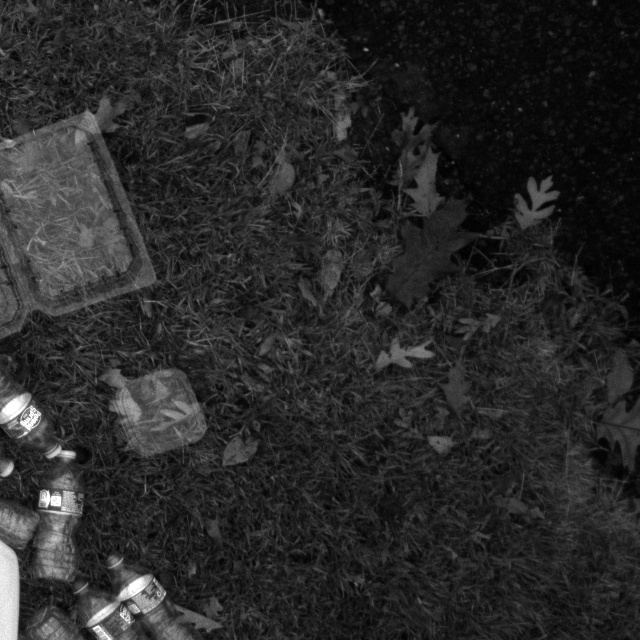bottle: (104, 553, 210, 640), (25, 442, 84, 585), (0, 346, 64, 461), (69, 579, 177, 640)
container: (0, 108, 159, 369), (115, 365, 206, 458)
